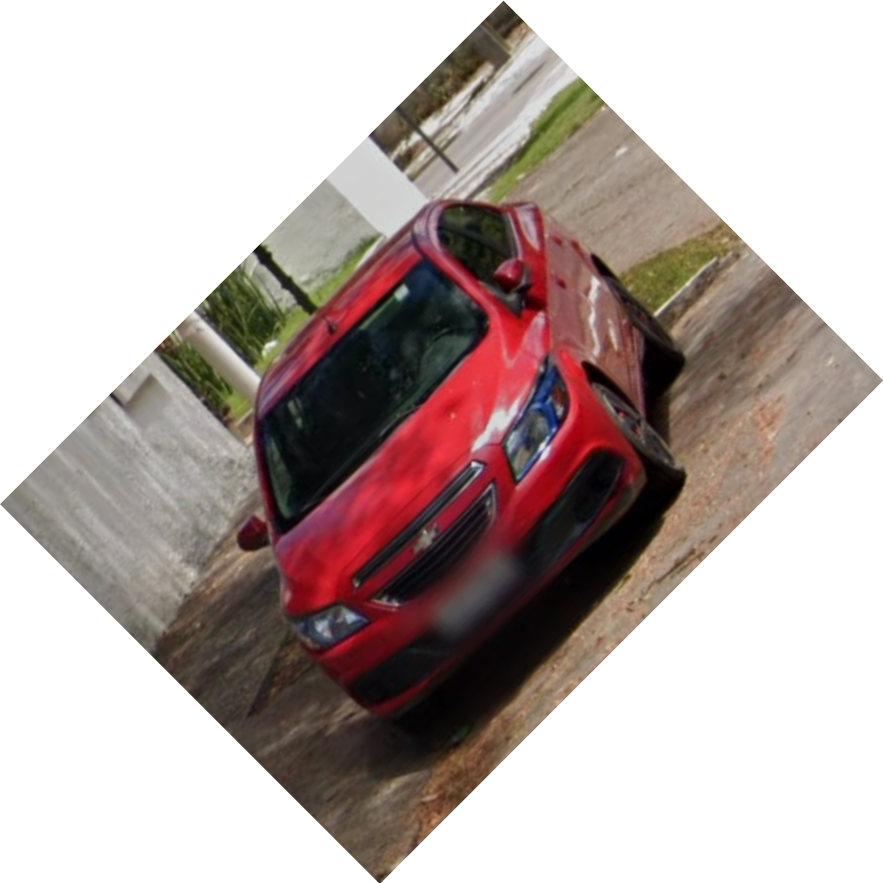car: (230, 193, 693, 743)
